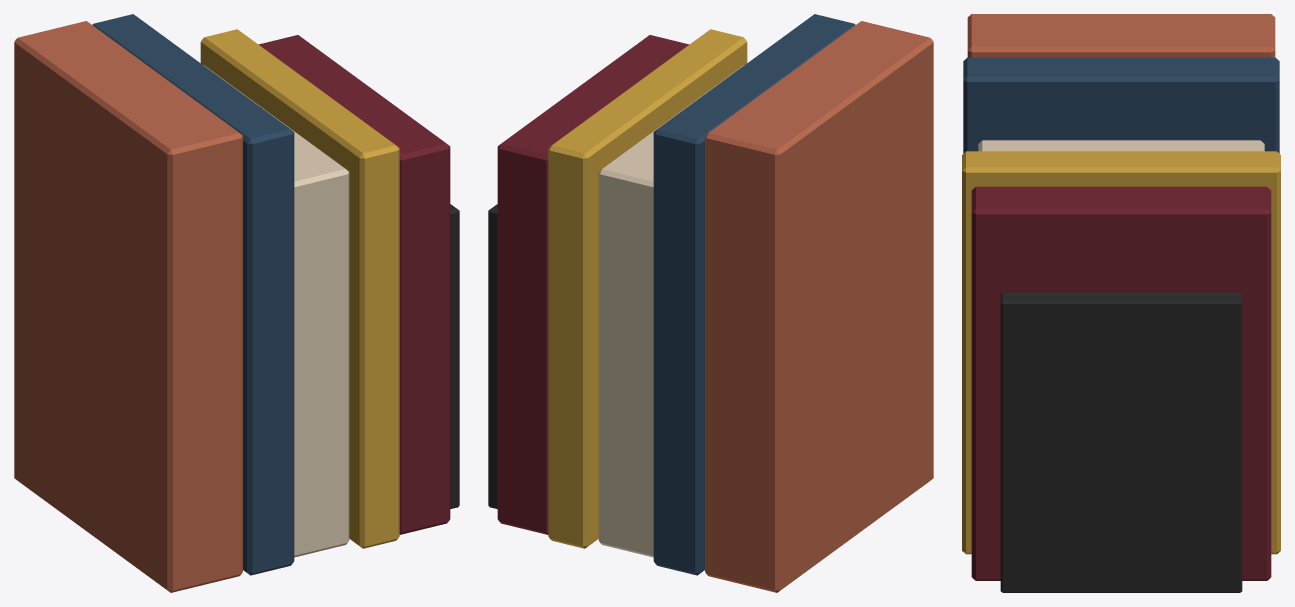
Rendered from i_books_s0.glb.
3 views of the same model, side by side, from view 1: azimuth 30°, elevation 25°; view 2: azimuth 150°, elevation 25°; view 3: azimuth 270°, elevation 25° (orthographic). The views are drawn at different scales.
Parts seen in each view (by area): view 1: o, o.003, o.001, o.004, o.002, o.005; view 2: o, o.003, o.001, o.004, o.002, o.005; view 3: o.005, o.004, o.001, o.003, o, o.002.
Boxes of the visible parts, <box> form: o: <box>14,21,242,592</box>; o.003: <box>200,29,399,548</box>; o.001: <box>92,14,294,575</box>; o.004: <box>258,35,450,534</box>; o.002: <box>203,65,349,557</box>; o.005: <box>450,204,459,508</box>; o: <box>705,21,933,592</box>; o.003: <box>548,29,747,548</box>; o.001: <box>653,14,855,575</box>; o.004: <box>497,35,689,534</box>; o.002: <box>598,65,744,557</box>; o.005: <box>488,204,497,508</box>; o.005: <box>1000,292,1242,592</box>; o.004: <box>971,186,1271,580</box>; o.001: <box>963,57,1279,153</box>; o.003: <box>962,151,1280,554</box>; o: <box>967,14,1275,57</box>; o.002: <box>978,140,1264,151</box>.
Bounding box in the file's own units: 0.1733 × 0.238 × 0.1585.
